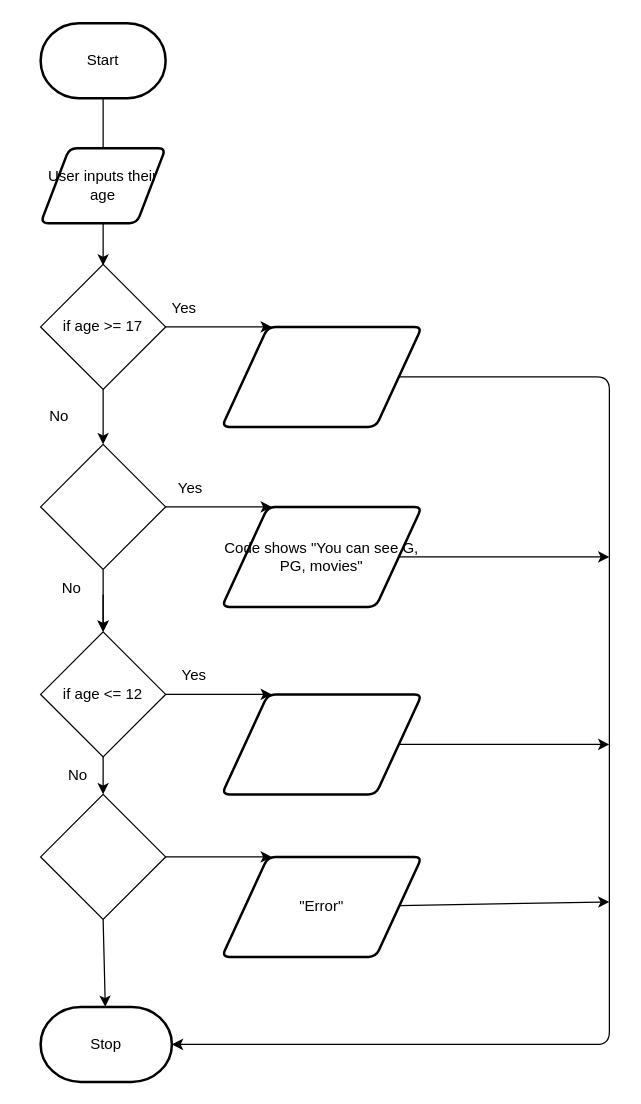
Image size: 641x1104. Some labels were removed from this diagram. The centre of each missing label's shape, as x and y in pixels:
Code shows "You can see G movies": [321,743]
Code shows "You can see G, PG, R movies": [321,376]
else: [102,856]
if age >= 13: [102,506]
